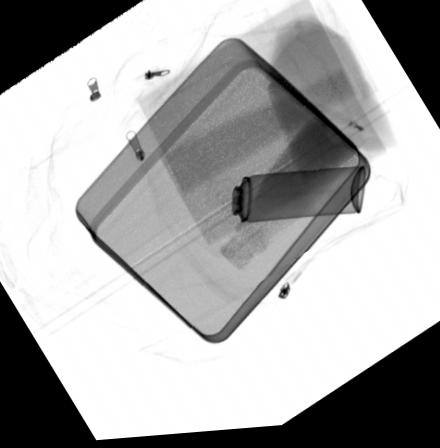Sprayer: (202, 170, 366, 229)
